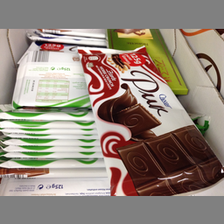chocolate: (79, 45, 223, 197), (108, 29, 189, 95), (12, 49, 91, 111)
